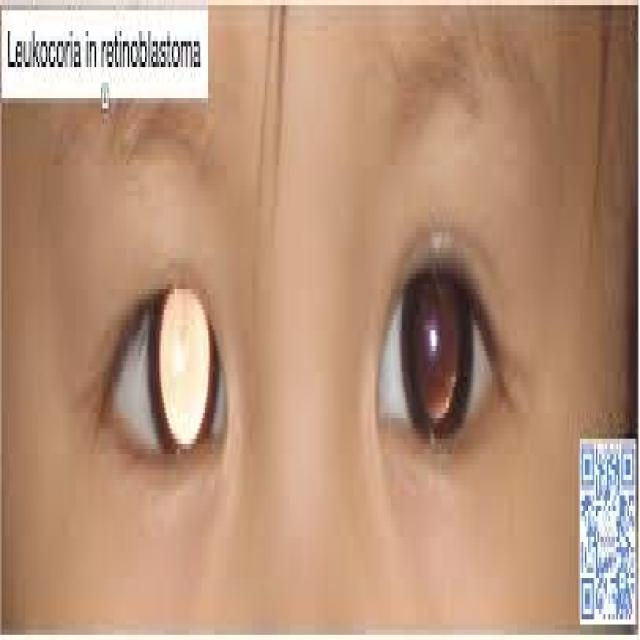reflexo-alterado: (136, 274, 220, 478)
reflexo-normal: (390, 245, 481, 464)
